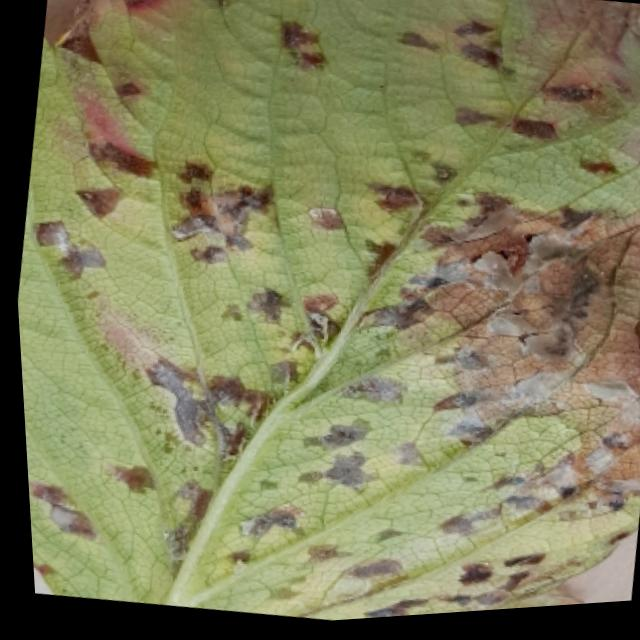Angular Leafspot: (14, 0, 640, 625)
